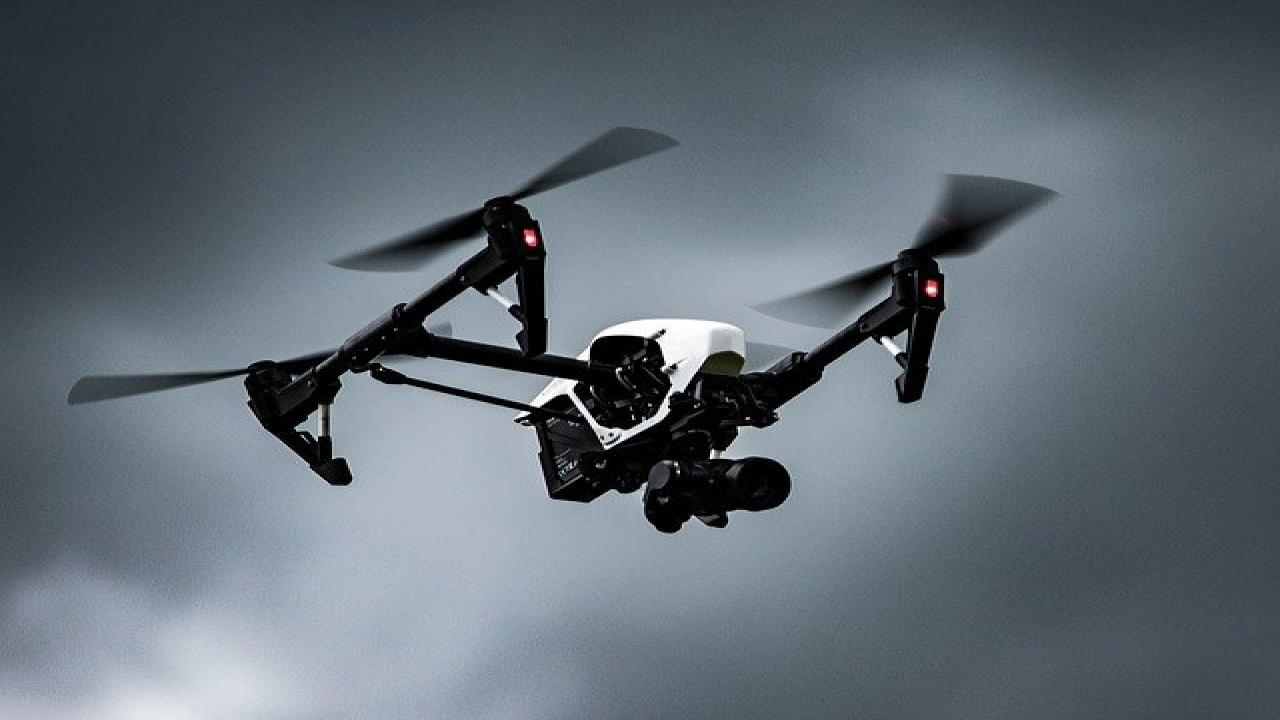Drone: (54, 118, 1080, 550)
